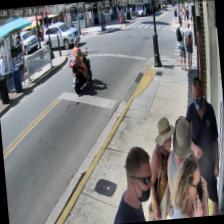person: (179, 75, 224, 217), (144, 115, 183, 220), (162, 114, 200, 218), (106, 146, 156, 224), (166, 152, 209, 218), (176, 19, 188, 70)
